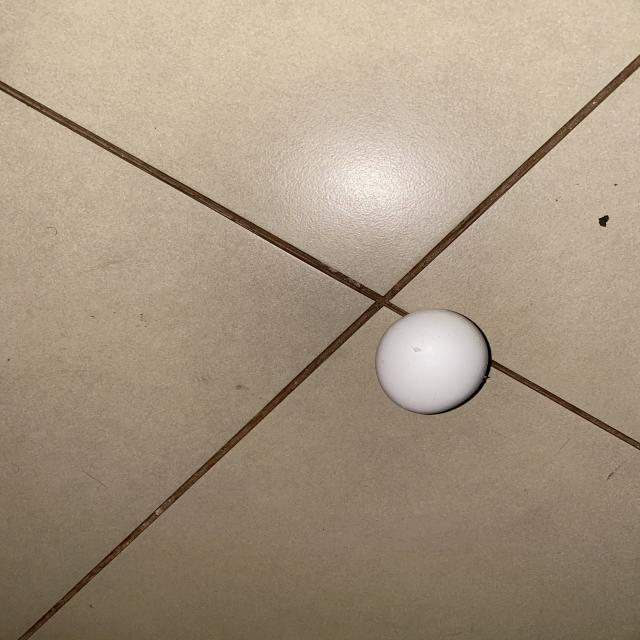egg: (372, 303, 502, 421)
